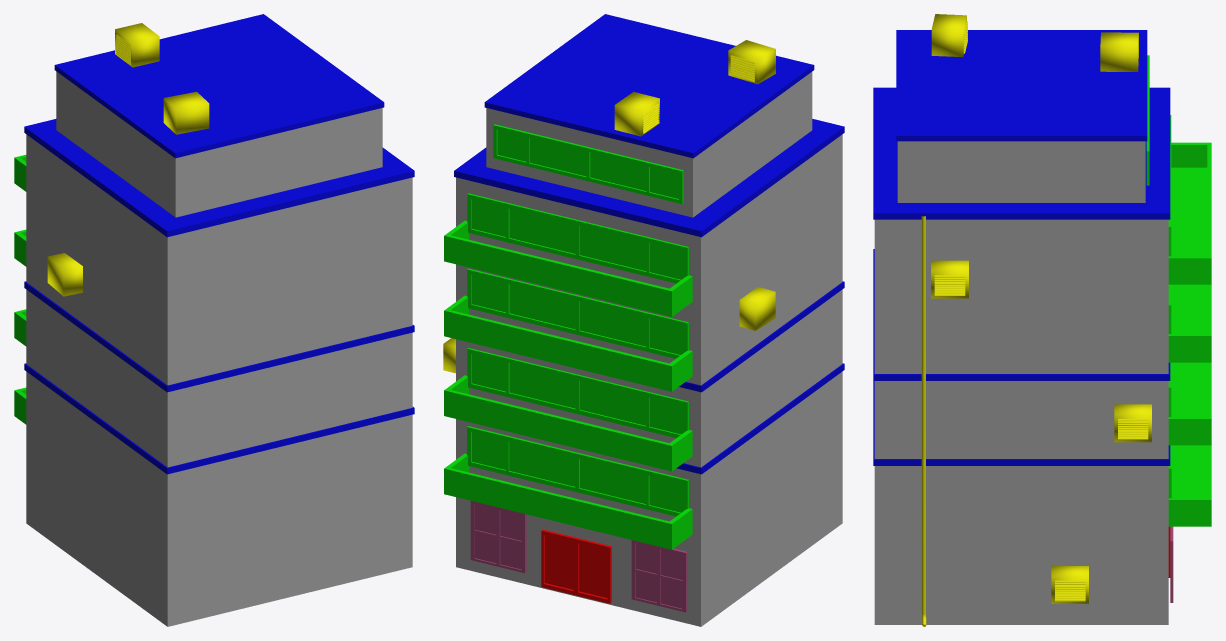
Rendered from Hotel_1_prebuilt_2.fbx.
3 renders of one model, left to right at view 1: azimuth 30°, elevation 25°; view 2: azimuth 150°, elevation 25°; view 3: azimuth 270°, elevation 25°, orthographic. The views are drawn at different scales.
Visible parts, largest first — view 1: polySurface202; view 2: polySurface202; view 3: polySurface202.
Part boxes in pixels (bbox=[...]): polySurface202: bbox=[14, 14, 414, 626]; polySurface202: bbox=[443, 14, 844, 626]; polySurface202: bbox=[873, 14, 1211, 626].
Bounding box in the file's own units: 1166 × 1898 × 1152.
